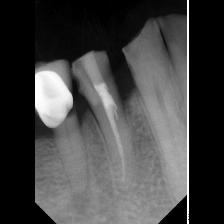apical_lesion: (36, 61, 111, 224)
